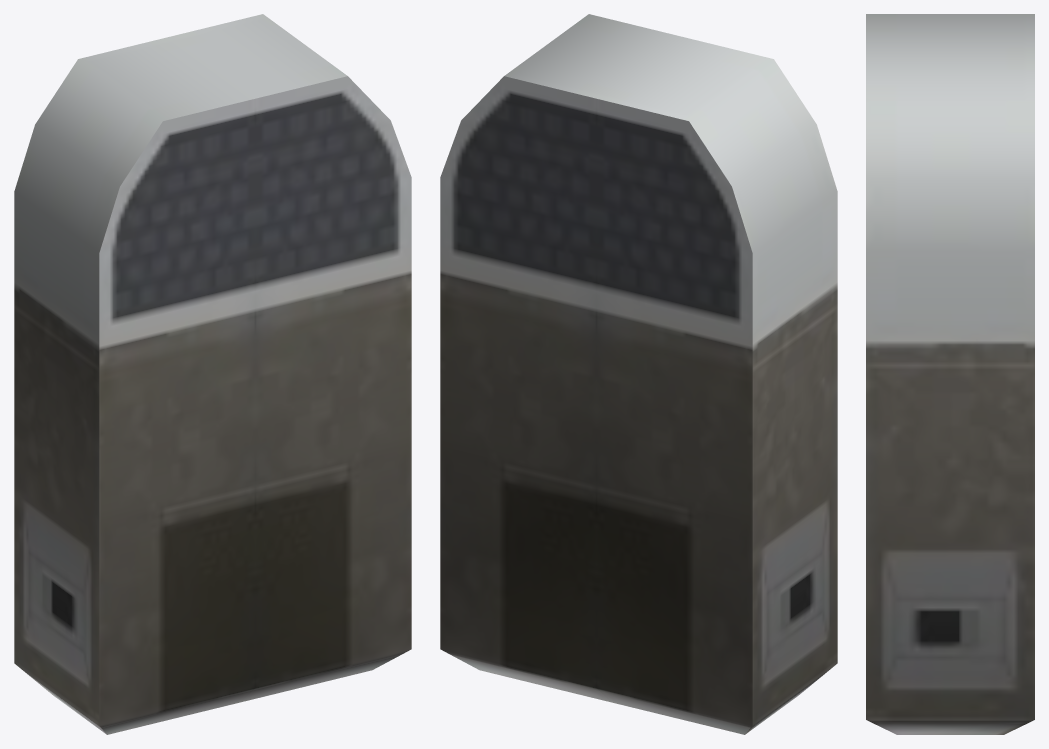
The model's file is Part - Pillar 01-ONSUA07r.glb.
3 renders of one model, left to right at view 1: azimuth 30°, elevation 25°; view 2: azimuth 150°, elevation 25°; view 3: azimuth 270°, elevation 25°, orthographic.
Parts seen in each view (by area): view 1: Pillar_01; view 2: Pillar_01; view 3: Pillar_01.
Part boxes in pixels (bbox=[...]): Pillar_01: bbox=[14, 14, 411, 734]; Pillar_01: bbox=[440, 14, 837, 734]; Pillar_01: bbox=[866, 14, 1034, 734].
Size of the model in its own units: 0.5641 by 1.06 by 0.2656.
1 material, 1 textured.
